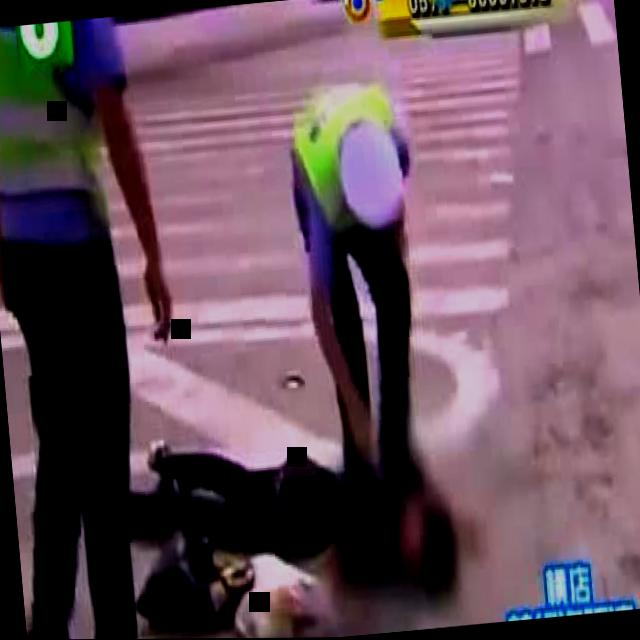Fall-Detected: (107, 382, 480, 639)
